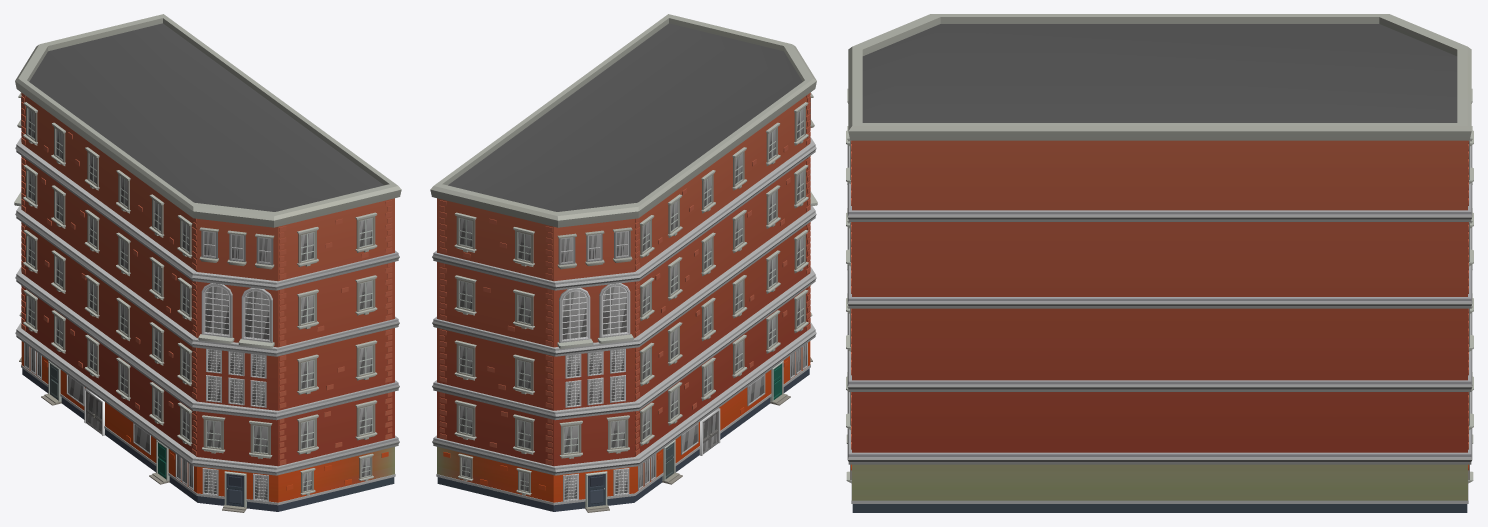
The model's file is Building_25_5_D.fbx.
The picture shows the model from 3 angles, left to right: view 1: azimuth 30°, elevation 25°; view 2: azimuth 150°, elevation 25°; view 3: azimuth 270°, elevation 25°; orthographic projection. The views are drawn at different scales.
Visible parts, largest first — view 1: Building_25_5_D; view 2: Building_25_5_D; view 3: Building_25_5_D.
Boxes of the visible parts, x1,y1,x2,y2 form: Building_25_5_D: (14,14,401,512); Building_25_5_D: (430,14,817,512); Building_25_5_D: (846,14,1473,512).
Size of the model in its own units: 1291 by 2014 by 2941.
